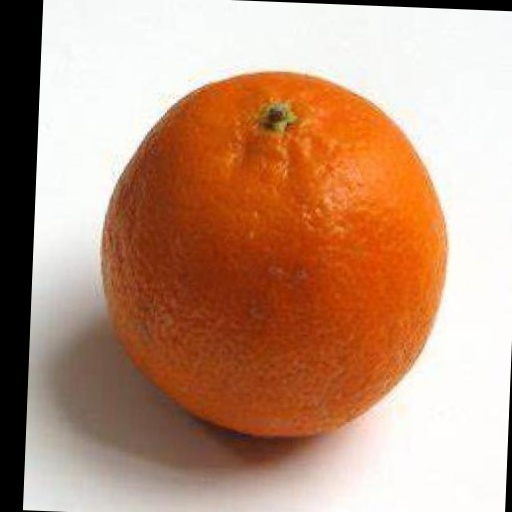fruit: (102, 73, 446, 435)
